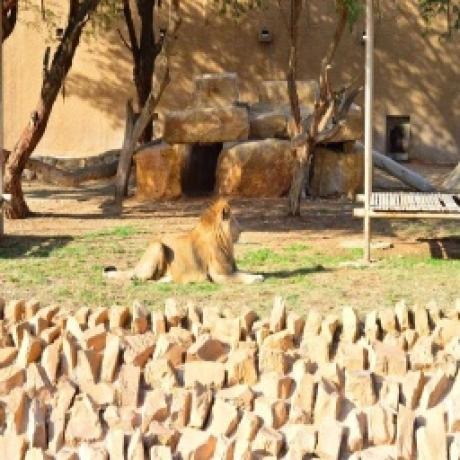Lion: (99, 196, 271, 286)
